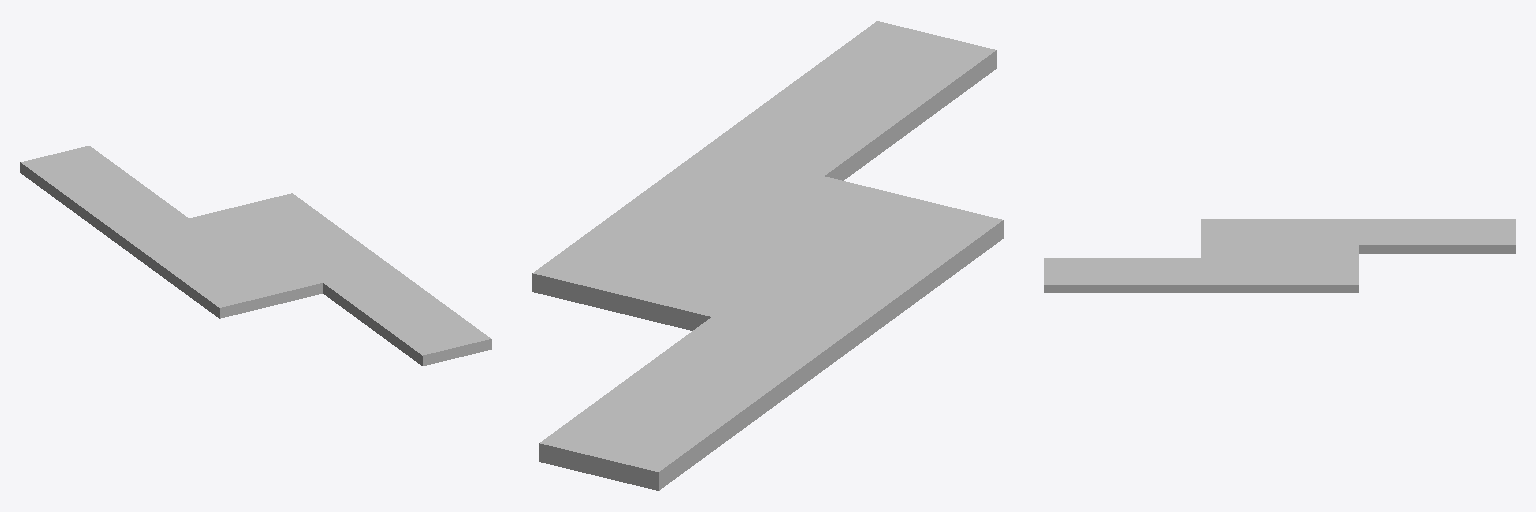
robot.urdf — test_3:
<?xml version="1.0"?>
<robot name="test_3">
  <material name="face_material">
    <color rgba="0.8 0.8 0.8 1.0"/>
  </material>
  <link name="face_0">
    <visual>
      <geometry>
        <mesh filename="meshes/face_0.stl" scale="1.0 1.0 1.0"/>
      </geometry>
      <material name="face_material"/>
    </visual>
  </link>
  <link name="face_1">
    <visual>
      <geometry>
        <mesh filename="meshes/face_1.stl" scale="1.0 1.0 1.0"/>
      </geometry>
      <material name="face_material"/>
    </visual>
  </link>
  <link name="face_2">
    <visual>
      <geometry>
        <mesh filename="meshes/face_2.stl" scale="1.0 1.0 1.0"/>
      </geometry>
      <material name="face_material"/>
    </visual>
  </link>
  <link name="face_3">
    <visual>
      <geometry>
        <mesh filename="meshes/face_3.stl" scale="1.0 1.0 1.0"/>
      </geometry>
      <material name="face_material"/>
    </visual>
  </link>
  <link name="face_4">
    <visual>
      <geometry>
        <mesh filename="meshes/face_4.stl" scale="1.0 1.0 1.0"/>
      </geometry>
      <material name="face_material"/>
    </visual>
  </link>
  <link name="face_5">
    <visual>
      <geometry>
        <mesh filename="meshes/face_5.stl" scale="1.0 1.0 1.0"/>
      </geometry>
      <material name="face_material"/>
    </visual>
  </link>
  <joint name="joint_0" type="revolute">
    <parent link="face_0"/>
    <child link="face_3"/>
    <origin xyz="10.000000 50.000000 0.000000" rpy="0 0 0"/>
    <axis xyz="1.000000 -0.000000 0.000000"/>
    <limit effort="10" velocity="3.14" lower="-1.57" upper="1.57"/>
  </joint>
  <joint name="joint_1" type="revolute">
    <parent link="face_0"/>
    <child link="face_2"/>
    <origin xyz="25.000000 25.000000 -3.000000" rpy="0 0 0"/>
    <axis xyz="-0.196116 0.980581 0.000000"/>
    <limit effort="10" velocity="3.14" lower="-1.57" upper="1.57"/>
  </joint>
  <joint name="joint_2" type="revolute">
    <parent link="face_2"/>
    <child link="face_1"/>
    <origin xyz="15.000000 -25.000000 3.000000" rpy="0 0 0"/>
    <axis xyz="-1.000000 -0.000000 0.000000"/>
    <limit effort="10" velocity="3.14" lower="-1.57" upper="1.57"/>
  </joint>
  <joint name="joint_3" type="revolute">
    <parent link="face_1"/>
    <child link="face_5"/>
    <origin xyz="0.000000 -25.000000 -3.000000" rpy="0 0 0"/>
    <axis xyz="1.000000 0.000000 0.000000"/>
    <limit effort="10" velocity="3.14" lower="-1.57" upper="1.57"/>
  </joint>
  <joint name="joint_4" type="revolute">
    <parent link="face_3"/>
    <child link="face_4"/>
    <origin xyz="0.000000 25.000000 -3.000000" rpy="0 0 0"/>
    <axis xyz="-1.000000 -0.000000 0.000000"/>
    <limit effort="10" velocity="3.14" lower="-1.57" upper="1.57"/>
  </joint>
</robot>

--- Facts derived from the render (not from the file) ---
The picture shows the robot from 3 angles, left to right: view 1: azimuth 30°, elevation 25°; view 2: azimuth 150°, elevation 25°; view 3: azimuth 270°, elevation 25°; orthographic projection.
Model test_3 with 6 links and 5 joints (5 revolute), rooted at face_0, posed every joint at zero.
Links seen in each view (by area): view 1: face_0, face_2, face_5, face_4, face_1, face_3; view 2: face_0, face_2, face_4, face_3, face_5, face_1; view 3: face_2, face_0, face_4, face_5, face_1, face_3.
Boxes of the visible links, x1,y1,x2,y2 form: face_0: [120, 218, 322, 318]; face_2: [189, 193, 390, 282]; face_5: [373, 302, 491, 365]; face_4: [20, 146, 138, 208]; face_1: [323, 266, 440, 329]; face_3: [70, 182, 187, 245]; face_0: [712, 176, 1003, 364]; face_2: [532, 147, 823, 330]; face_4: [539, 380, 744, 490]; face_3: [626, 317, 830, 427]; face_5: [792, 21, 996, 130]; face_1: [706, 84, 910, 180]; face_2: [1201, 245, 1358, 292]; face_0: [1201, 219, 1358, 257]; face_4: [1437, 219, 1515, 253]; face_5: [1044, 258, 1122, 292]; face_1: [1123, 258, 1200, 292]; face_3: [1359, 219, 1436, 253].
Size in the robot's own frame: 50 by 150 by 3 metres.
Meshes: 6 distinct files referenced, 6 mesh visuals loaded (6 binary STL).
